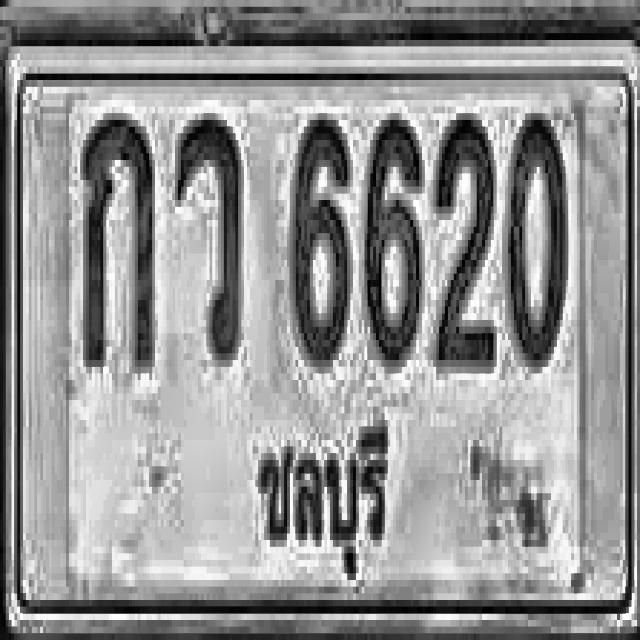license-plate: (3, 33, 640, 640)
